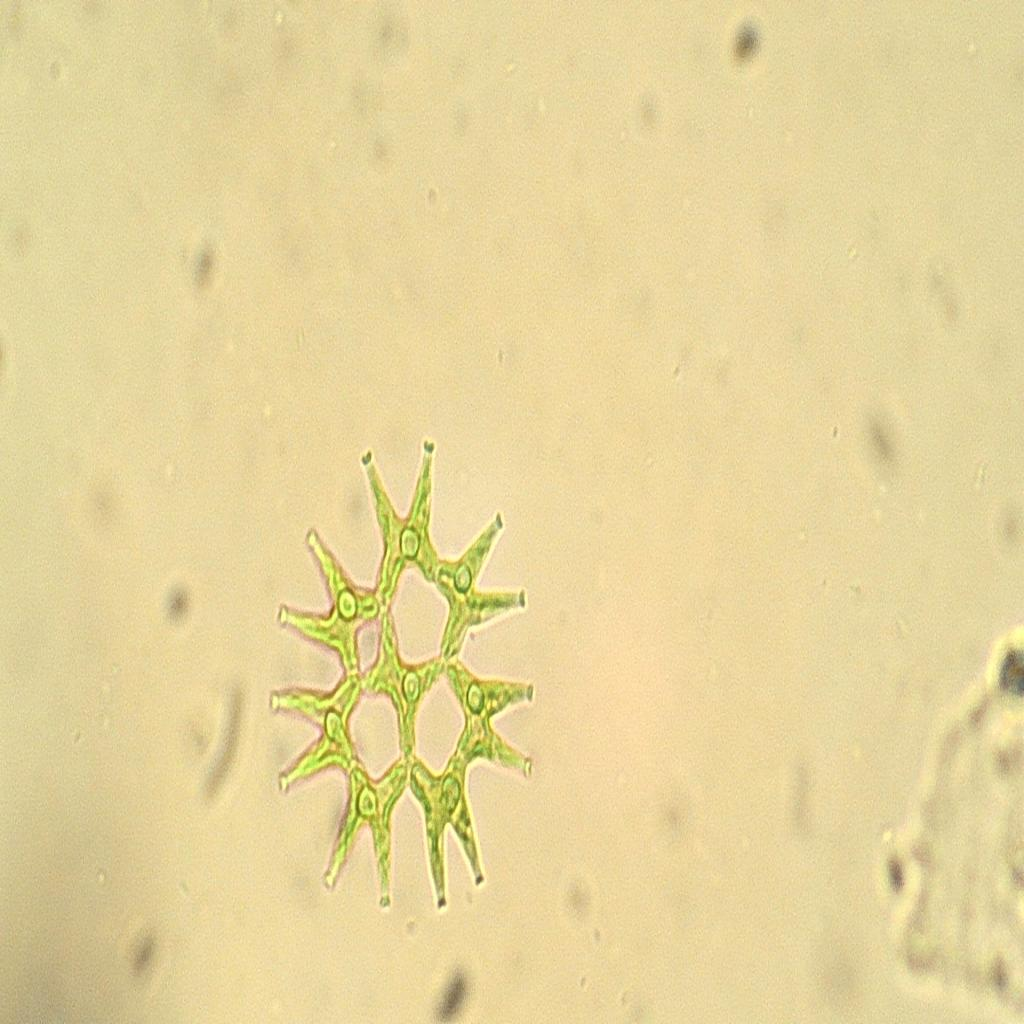Pediastrum_CTH: (257, 424, 563, 944)
